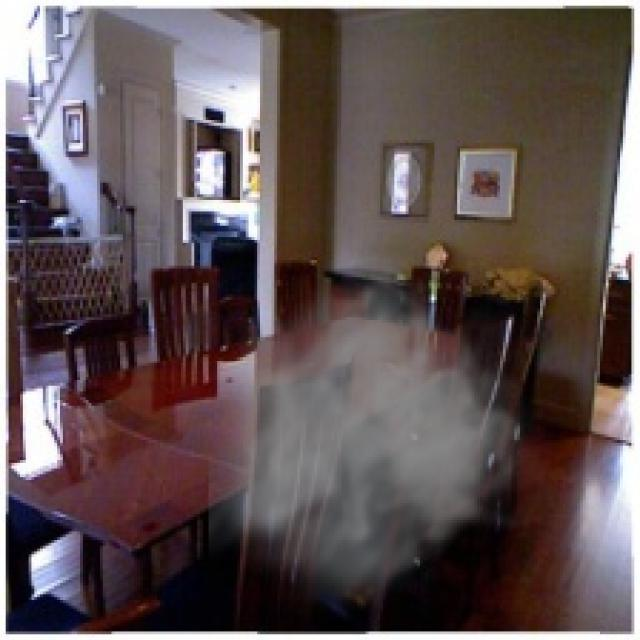Smoke: (208, 257, 560, 620)
